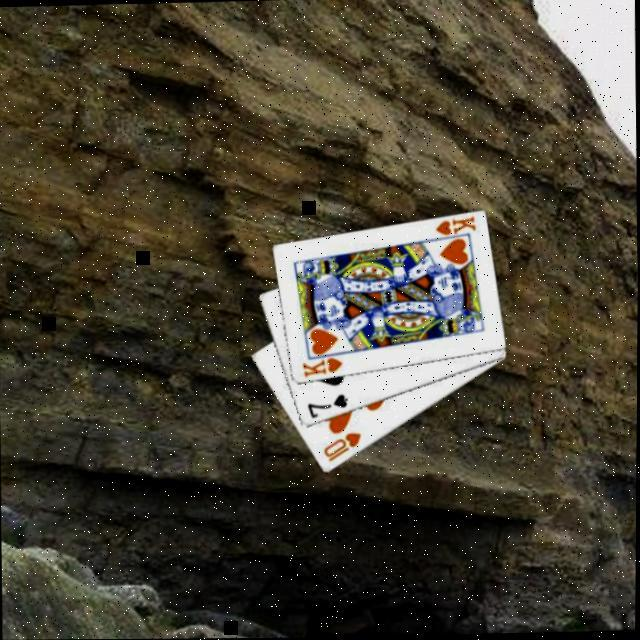10H: (318, 426, 362, 464)
7S: (301, 389, 349, 420)
KH: (429, 212, 476, 237), (298, 353, 343, 379)
